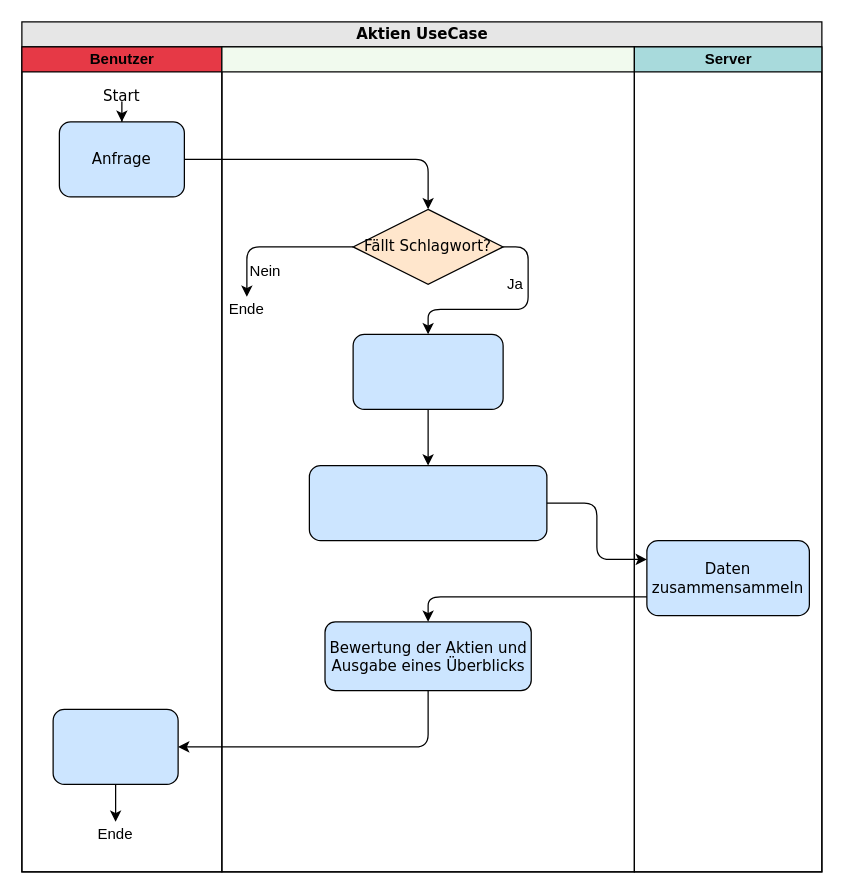
Some shapes in this 844 by 894 pixel diagram are drawn without their labels. The shapes that lost their labels are listed below. From the top down, each one's box as (x1, y1, x2, y2) in pixels, then its label:
(352, 333, 503, 409): Favorisierte Aktien heraussuchen
(221, 46, 634, 872): YAPA
(308, 464, 547, 541): Aktienkurse abfragen Nachrichten nach Aktien überprüfen
(52, 708, 178, 784): Planung neuer Aktienkäufe
